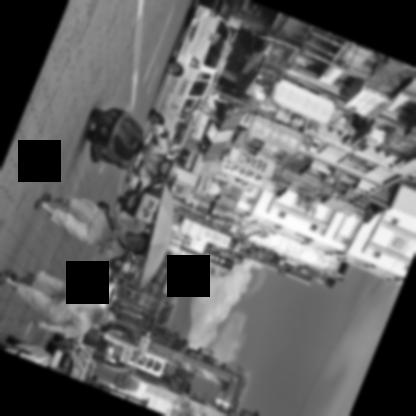handbag: (95, 201, 126, 249)
